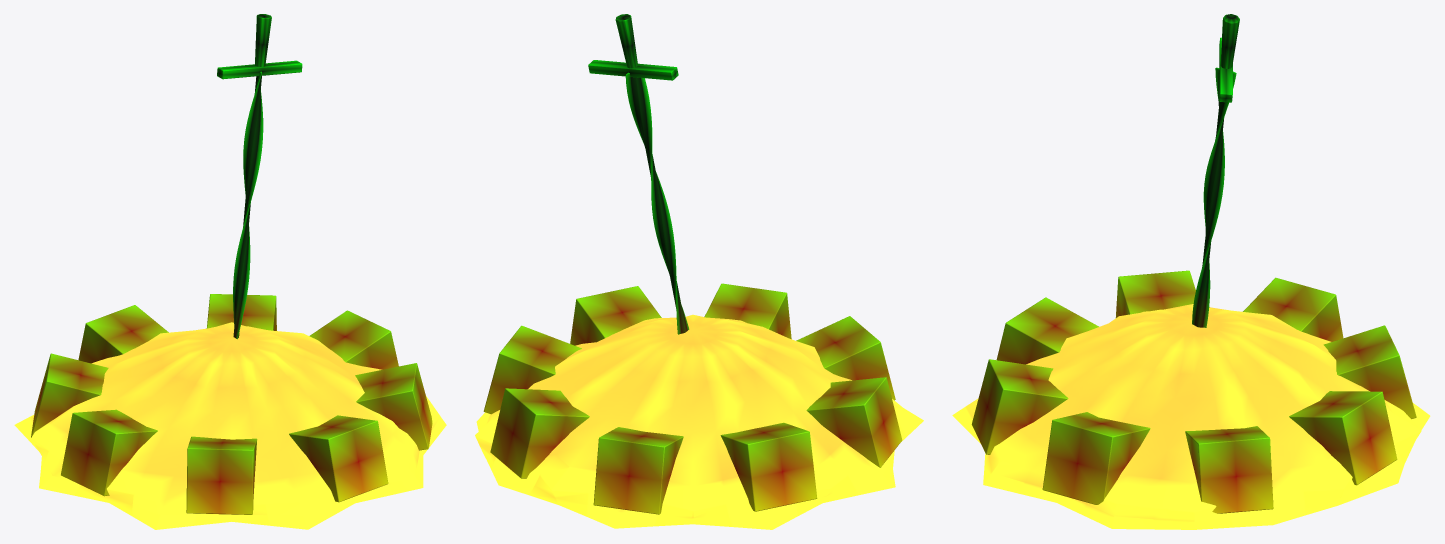
The model's file is PROP_CoiledSwordBonfire.fbx.
3 views of the same model, side by side, from view 1: azimuth 30°, elevation 25°; view 2: azimuth 150°, elevation 25°; view 3: azimuth 270°, elevation 25° (orthographic). The views are drawn at different scales.
Visible parts, largest first — view 1: PROP_CoiledSwordBonfire_LOD0; view 2: PROP_CoiledSwordBonfire_LOD0; view 3: PROP_CoiledSwordBonfire_LOD0.
Boxes of the visible parts, x1,y1,x2,y2 form: PROP_CoiledSwordBonfire_LOD0: [14, 14, 446, 529]; PROP_CoiledSwordBonfire_LOD0: [475, 14, 923, 529]; PROP_CoiledSwordBonfire_LOD0: [952, 14, 1430, 529].
Size of what is drawn, in the model's own units: 131 by 134 by 131.
